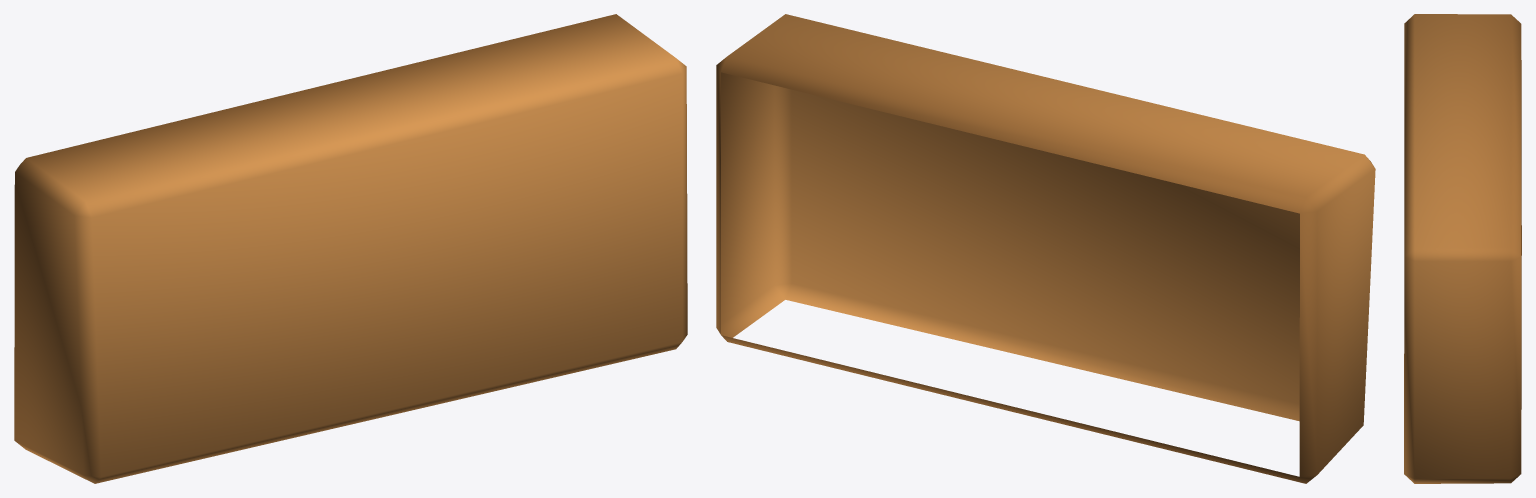
File: block_l1_lo.glb
3 renders of one model, left to right at view 1: azimuth 30°, elevation 25°; view 2: azimuth 150°, elevation 25°; view 3: azimuth 270°, elevation 25°, orthographic. The views are drawn at different scales.
Parts seen in each view (by area): view 1: block_l1_lo; view 2: block_l1_lo; view 3: block_l1_lo.
Part boxes in pixels (x1,y1,x2,y2): block_l1_lo: [14, 14, 687, 483]; block_l1_lo: [716, 14, 1375, 483]; block_l1_lo: [1404, 14, 1521, 483].
Bounding box in the file's own units: 2.2 × 1 × 0.4522.
